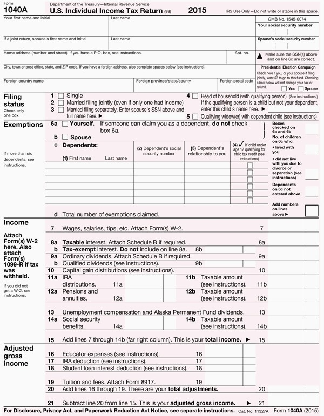checkbox: (279, 84, 288, 92), (190, 112, 199, 120), (60, 119, 69, 127), (60, 132, 69, 140), (245, 168, 254, 176), (245, 175, 254, 183), (296, 84, 304, 92), (56, 98, 64, 106), (190, 92, 199, 99), (56, 92, 65, 99), (56, 106, 65, 113), (245, 161, 254, 168), (245, 182, 254, 189), (245, 189, 254, 196), (245, 196, 254, 203)
textbox: (1, 61, 256, 79), (1, 47, 227, 65), (106, 13, 257, 37), (2, 14, 111, 38), (106, 34, 256, 51), (1, 75, 135, 93), (1, 34, 110, 51), (132, 76, 220, 94), (253, 20, 320, 37), (253, 34, 320, 51), (44, 160, 135, 171), (44, 166, 135, 177), (43, 173, 134, 184), (44, 181, 135, 192), (43, 187, 134, 198), (43, 194, 134, 205), (265, 216, 308, 234), (265, 257, 308, 275), (265, 313, 308, 331), (122, 285, 165, 303), (201, 369, 244, 387), (215, 76, 257, 94), (264, 229, 306, 247), (265, 243, 307, 261), (265, 271, 307, 289), (265, 285, 307, 303), (265, 299, 307, 317), (265, 327, 307, 345), (122, 272, 165, 289), (122, 314, 165, 331), (202, 342, 244, 359), (264, 390, 306, 407), (223, 48, 257, 66), (181, 194, 231, 206), (181, 180, 231, 192), (132, 160, 186, 171), (132, 166, 186, 177), (132, 174, 186, 185), (131, 180, 185, 191), (132, 187, 186, 198), (132, 194, 186, 205), (181, 188, 231, 199), (181, 174, 231, 185), (181, 167, 231, 178), (182, 160, 232, 171), (201, 257, 244, 268), (265, 383, 308, 394), (201, 244, 244, 254), (201, 356, 244, 366), (201, 363, 244, 373), (161, 271, 179, 289), (161, 285, 179, 303), (161, 314, 179, 331), (303, 243, 319, 261), (241, 341, 257, 359), (241, 370, 257, 387), (304, 391, 320, 408), (304, 216, 319, 234), (304, 229, 319, 247), (304, 257, 319, 275), (304, 272, 319, 290), (304, 285, 319, 303), (304, 299, 319, 317), (304, 314, 319, 332), (304, 327, 319, 345), (303, 203, 319, 217), (240, 243, 257, 254), (240, 355, 257, 366), (240, 257, 256, 268), (304, 382, 320, 393), (240, 362, 256, 373)
textline: (101, 112, 186, 121), (267, 105, 320, 114), (303, 122, 319, 136), (303, 167, 319, 181), (303, 184, 319, 198), (304, 143, 319, 157)
